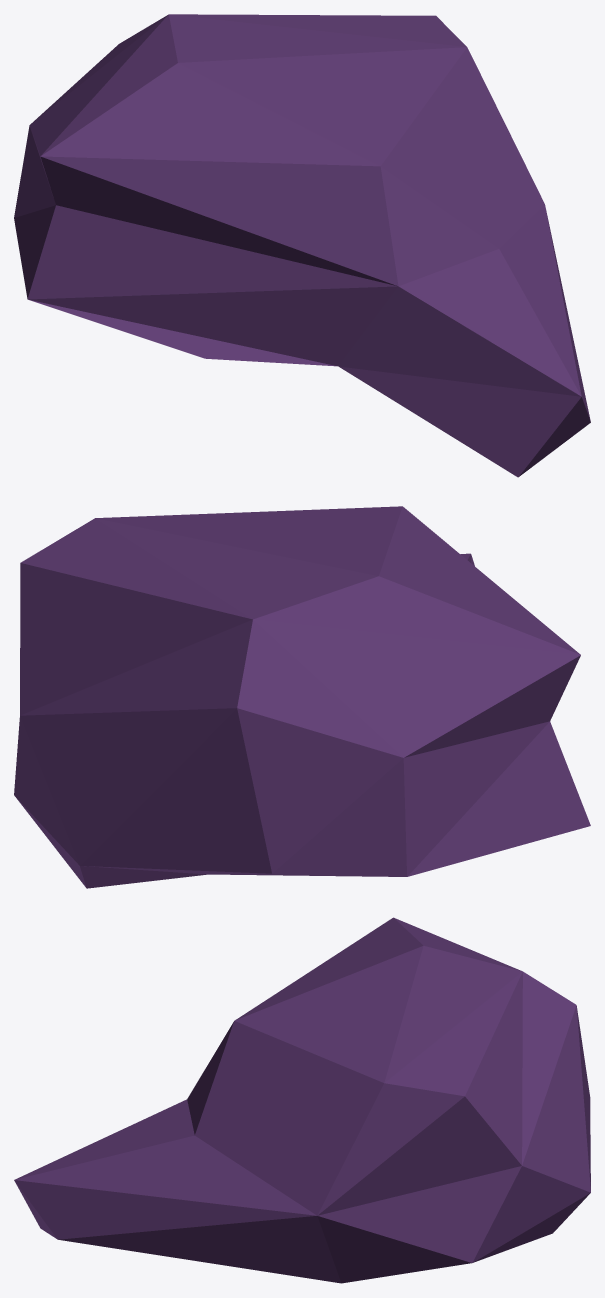
The model's file is Rock_12.fbx.
3 views of the same model, one above another, from view 1: azimuth 30°, elevation 25°; view 2: azimuth 150°, elevation 25°; view 3: azimuth 270°, elevation 25° (orthographic). The views are drawn at different scales.
Parts seen in each view (by area): view 1: rock_model.025; view 2: rock_model.025; view 3: rock_model.025.
Boxes of the visible parts, <box> form: rock_model.025: <box>14,14,590,477</box>; rock_model.025: <box>14,506,590,888</box>; rock_model.025: <box>14,917,590,1283</box>.
Size of the model in its own units: 270 by 152 by 337.
